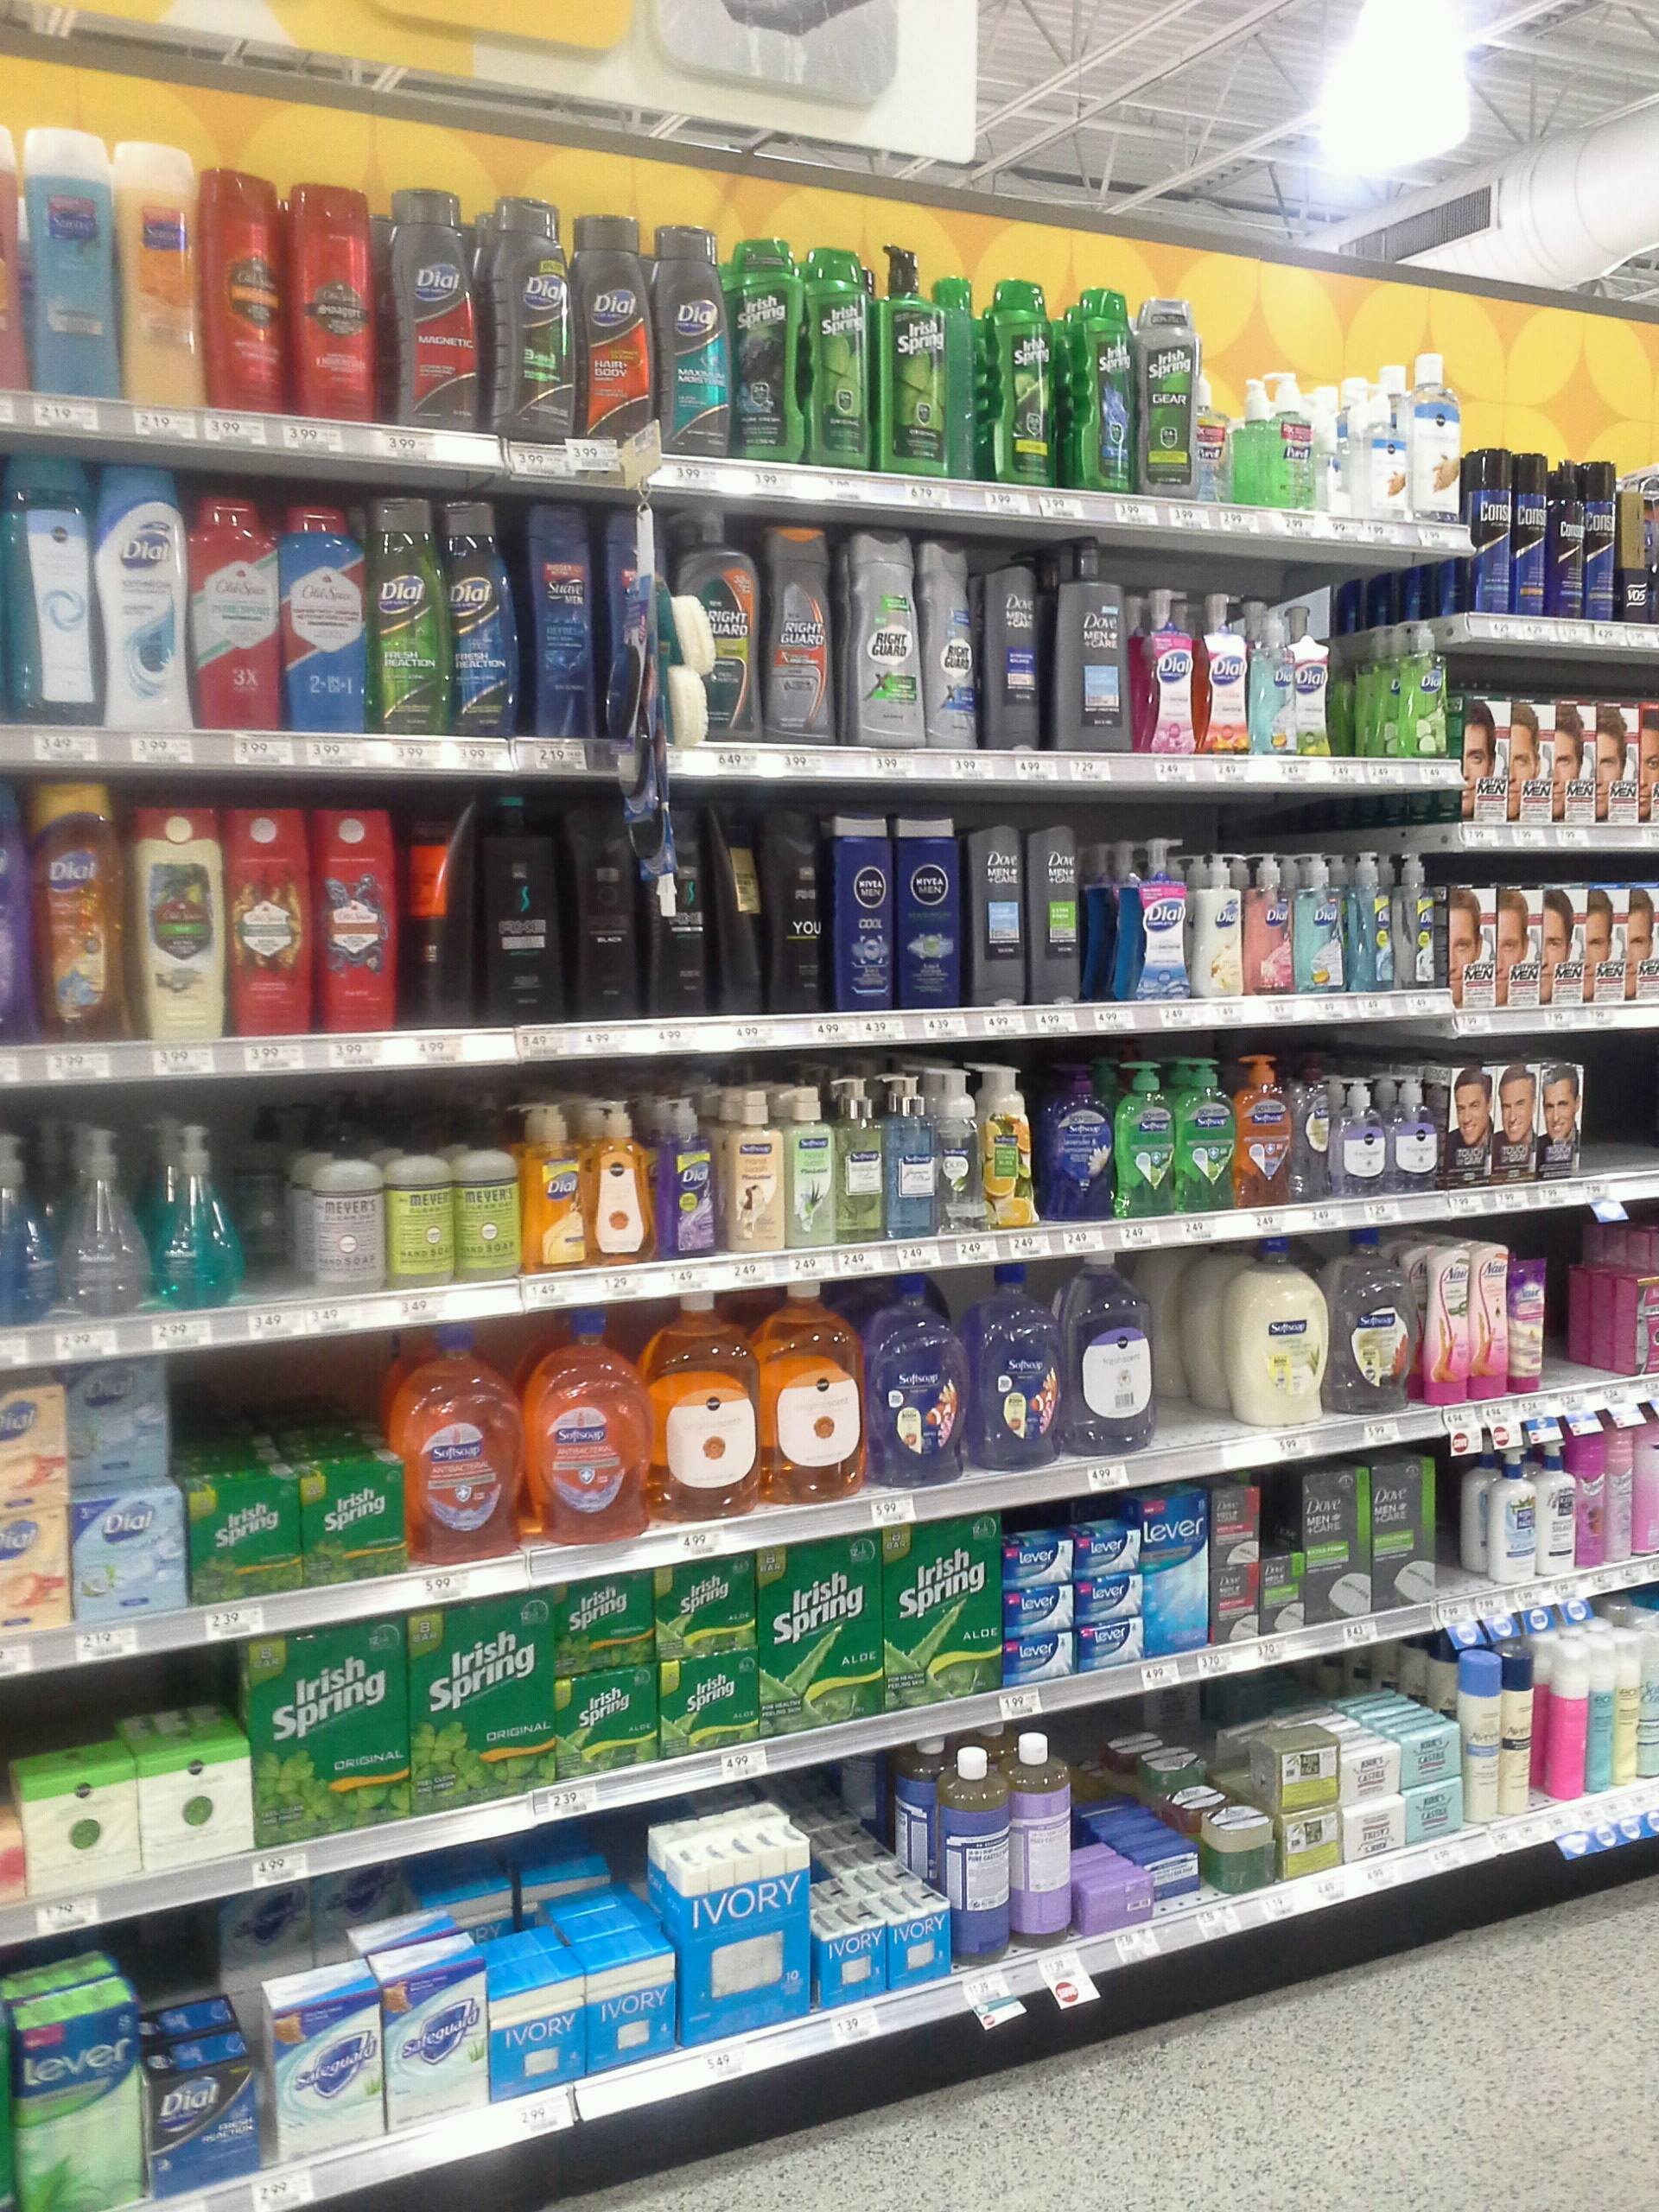Out-of-stock: (1145, 1251, 1237, 1484), (1544, 1256, 1631, 1400), (1581, 1026, 1657, 1184), (1439, 1468, 1492, 1601)
